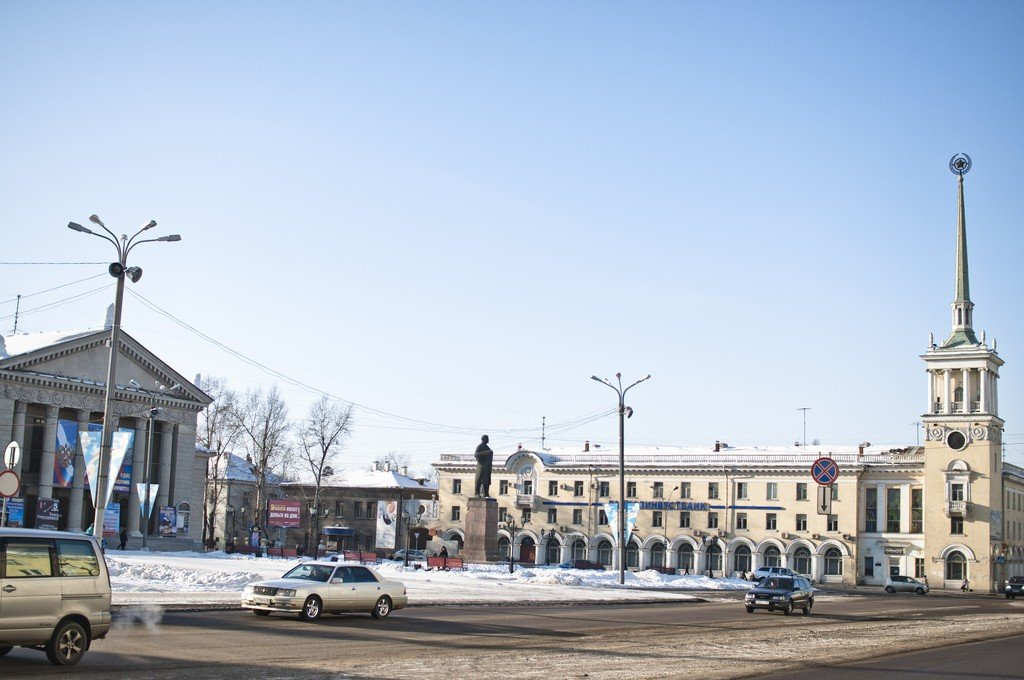sign: (811, 457, 839, 485), (815, 484, 833, 517), (1, 470, 20, 499)
